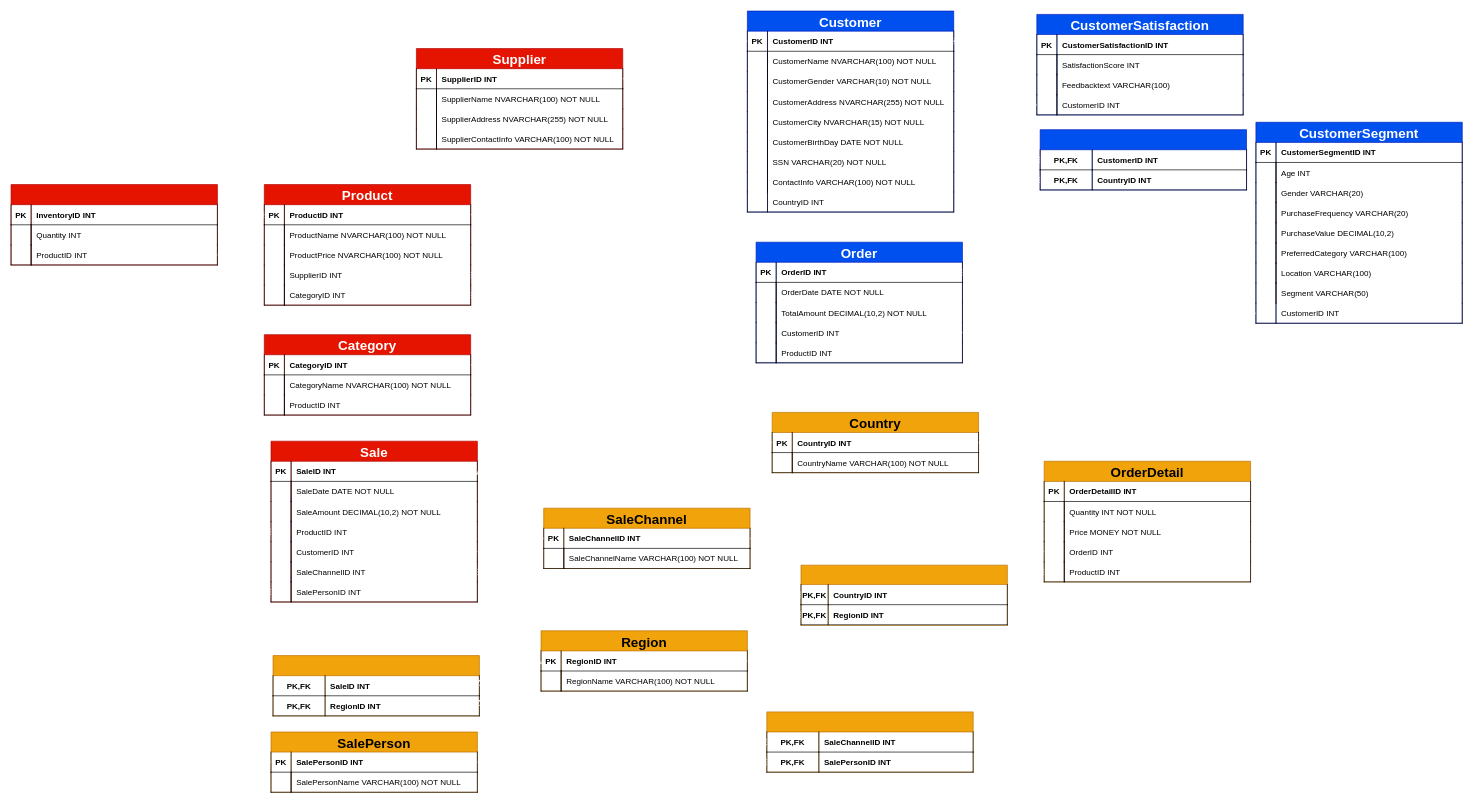
This 1473x803 diagram has some shape labels left out. Here are the shapes that lost their labels. From the top down, the box of each, then its label:
(1040, 129, 1247, 190): CustomerCountry
(10, 184, 217, 265): ProductInventory
(800, 564, 1007, 625): CountryRegion
(272, 655, 479, 716): SaleRegion
(766, 711, 973, 772): ChannelSalePerson
